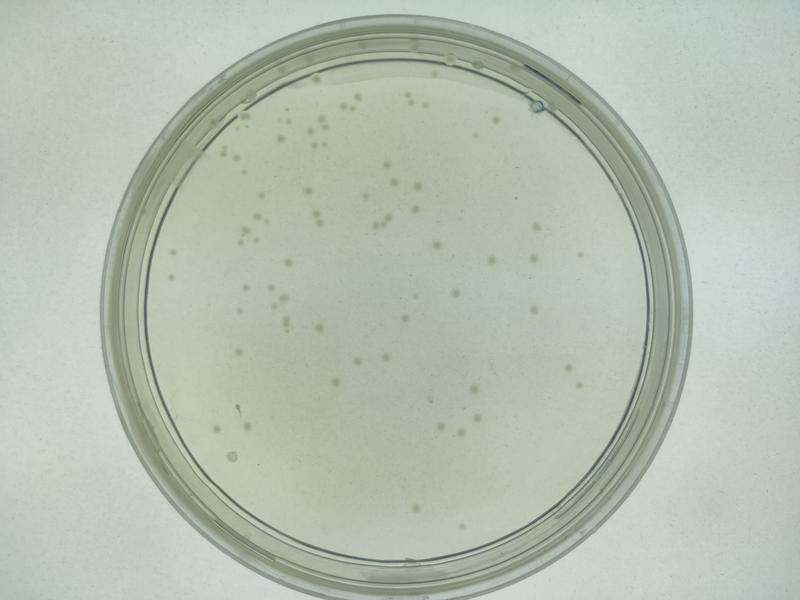colony: (462, 371, 489, 400), (225, 342, 257, 365), (525, 214, 551, 241), (436, 282, 470, 302), (424, 231, 450, 257), (476, 245, 504, 269), (323, 370, 345, 400), (295, 176, 320, 201), (376, 346, 397, 375), (309, 317, 335, 339), (522, 251, 550, 271), (403, 494, 427, 517), (233, 417, 262, 436), (426, 415, 451, 437), (397, 307, 419, 332), (557, 356, 582, 377), (467, 404, 490, 426), (345, 348, 367, 371), (526, 298, 545, 323), (385, 171, 404, 196), (410, 176, 427, 198), (407, 200, 425, 220), (277, 254, 297, 268)
